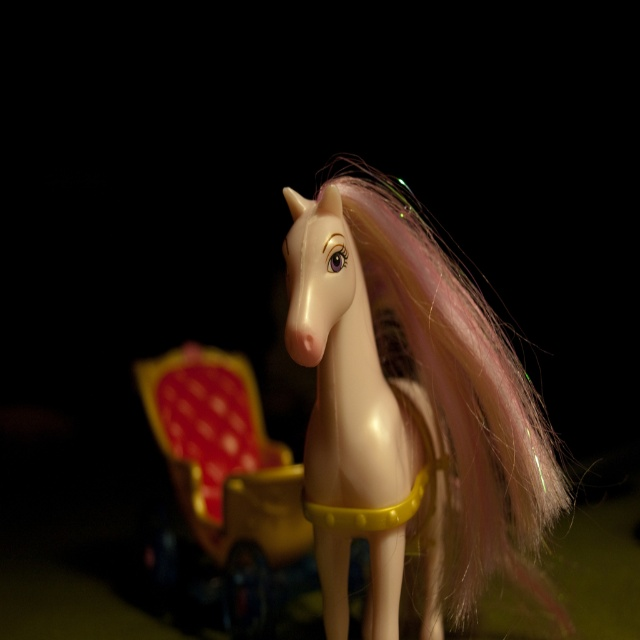Horse: (280, 156, 577, 639)
